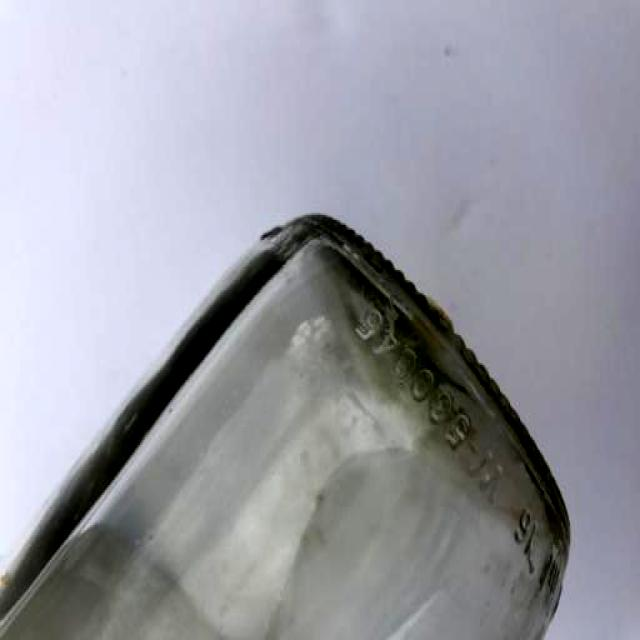Glass: (0, 189, 589, 640)
